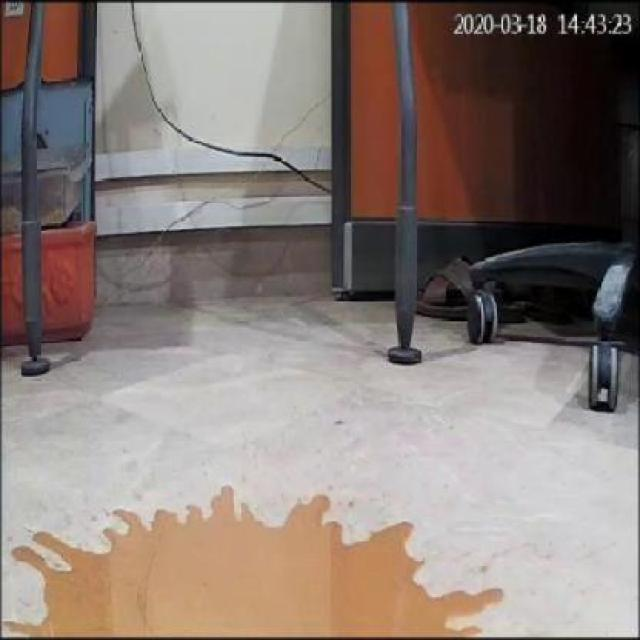spillage: (4, 488, 517, 638)
